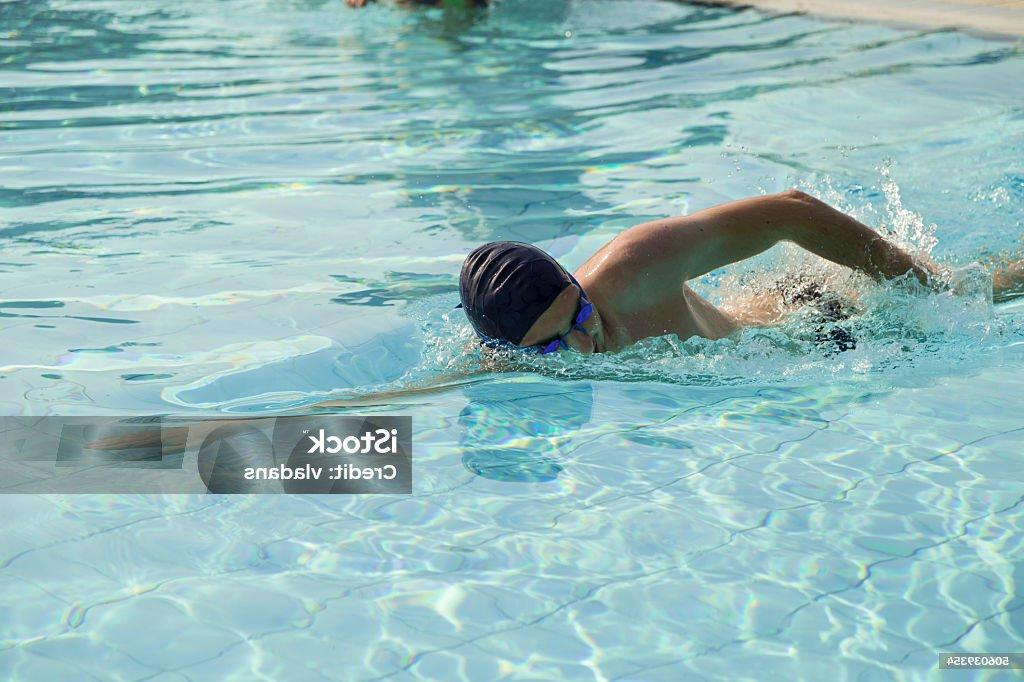Swimming: (278, 83, 1019, 433)
